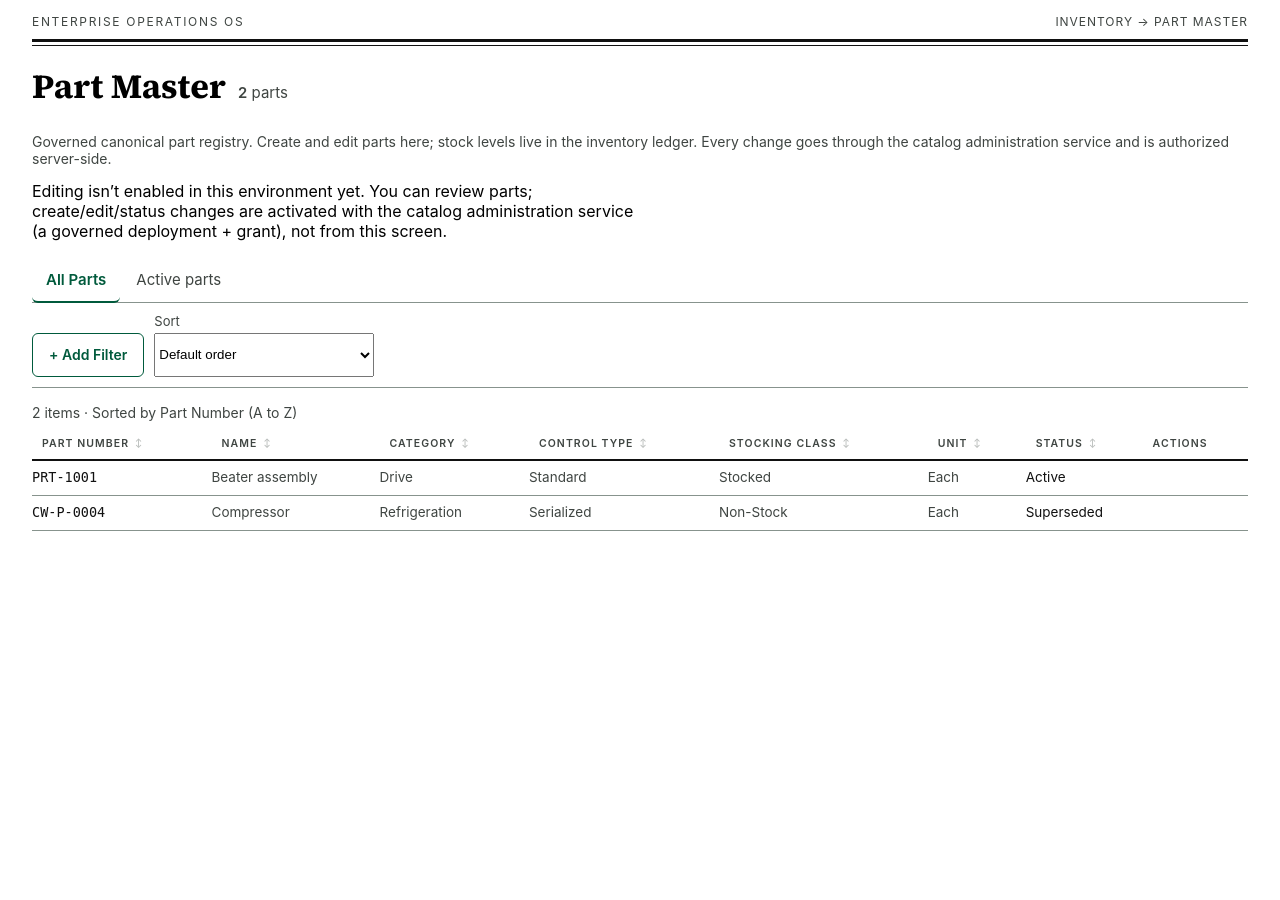
Scenario: the controls come from metadata, not from this screen › explains a field a person can see but cannot filter
This screenshot has width=1280, height=900.
Check: the text "PRT-1001" is shown, box [32,460,212,496]
What coordinates should you click on to do the following:
click the button "+ Add Filter"
I would click on:
 (88, 355)
Its box is [32,333,144,377].
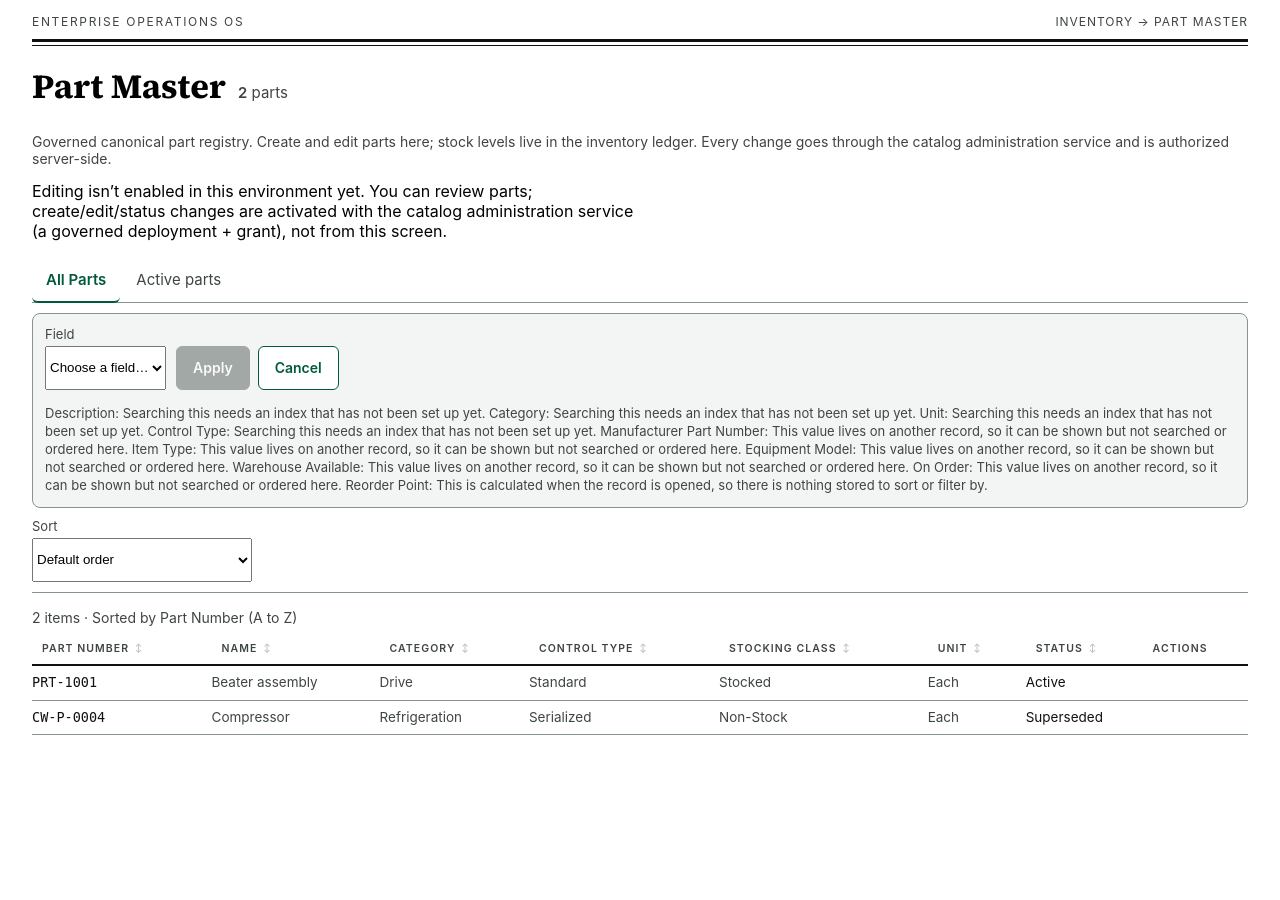
Check: the text with class "fo-listctl__why" shows "index that has not been set up", box [45,405,1227,494]
